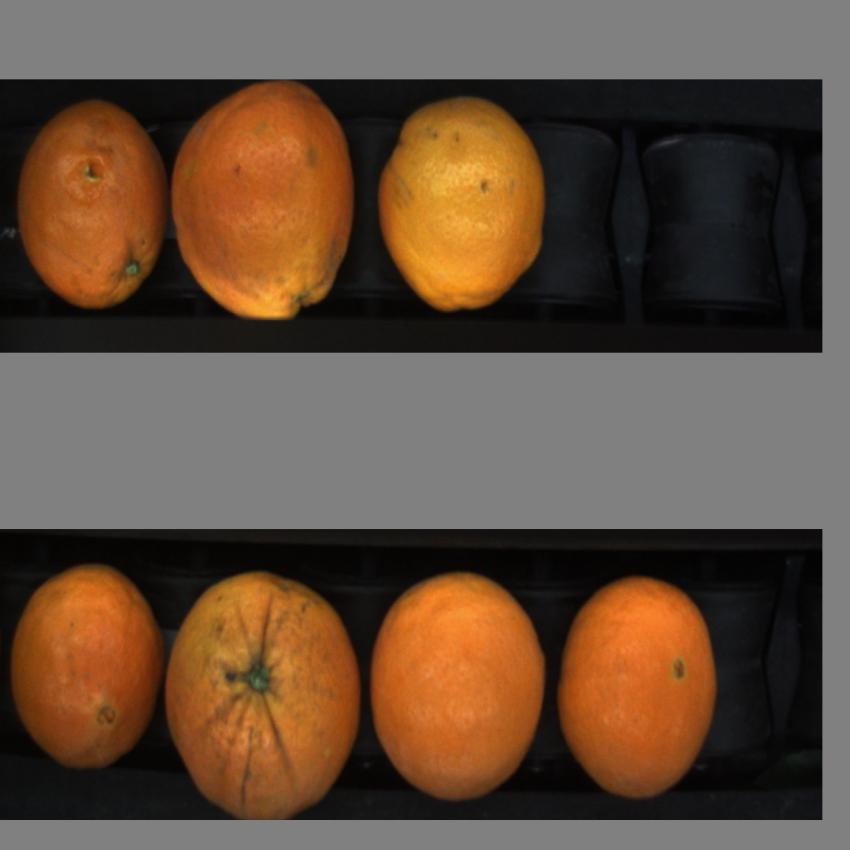Buen estado: (162, 563, 364, 819), (372, 572, 554, 793), (378, 96, 552, 310), (558, 579, 722, 802)
Mal estado: (167, 84, 357, 327), (7, 559, 164, 775), (16, 91, 164, 316)
